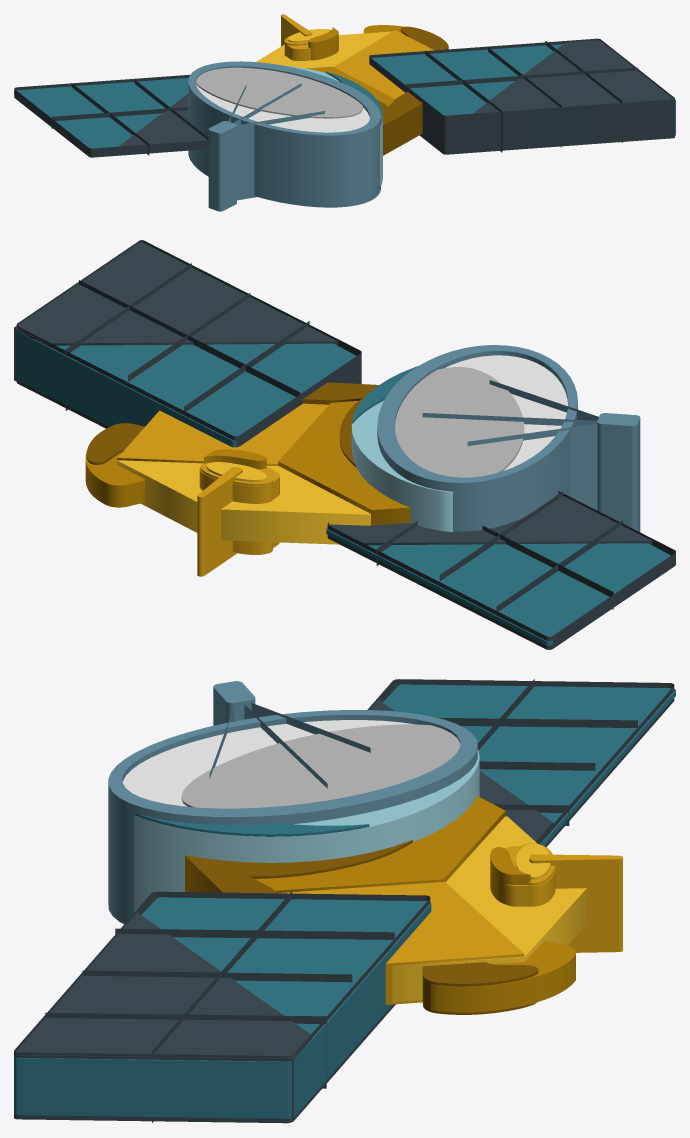
File: emoji_u1f6f0.glb
The picture shows the model from 3 angles, top to bottom: view 1: azimuth 30°, elevation 25°; view 2: azimuth 150°, elevation 25°; view 3: azimuth 270°, elevation 25°; orthographic projection. The views are drawn at different scales.
Parts seen in each view (by area): view 1: emoji_u1f6f0; view 2: emoji_u1f6f0; view 3: emoji_u1f6f0.
Boxes of the visible parts, bbox=[...] form: emoji_u1f6f0: bbox=[14, 14, 675, 211]; emoji_u1f6f0: bbox=[14, 240, 675, 649]; emoji_u1f6f0: bbox=[14, 679, 675, 1123].
Bounding box in the file's own units: 0.0335 × 0.0052 × 0.0232.
